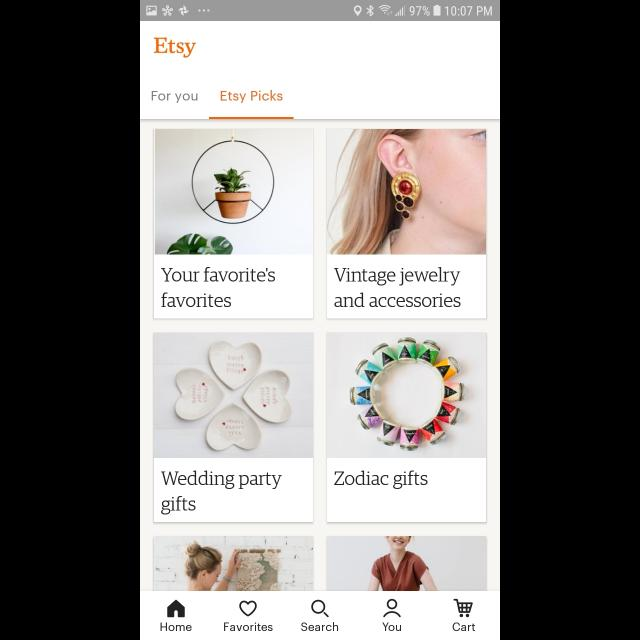icon: (454, 598, 474, 618), (383, 598, 401, 618), (167, 599, 185, 617), (311, 600, 329, 618), (239, 600, 257, 616)
image: (326, 332, 487, 458), (154, 332, 314, 458), (328, 129, 487, 255), (155, 130, 313, 254), (154, 536, 314, 592), (326, 536, 486, 590)
text: (162, 470, 282, 514), (334, 268, 462, 308), (160, 268, 276, 308), (334, 470, 428, 490), (154, 38, 198, 58), (221, 90, 283, 104), (152, 92, 198, 105), (224, 622, 274, 632), (301, 621, 339, 631), (160, 621, 192, 631), (452, 622, 476, 632), (382, 622, 402, 632)
uppertaskbar: (140, 1, 500, 22)
